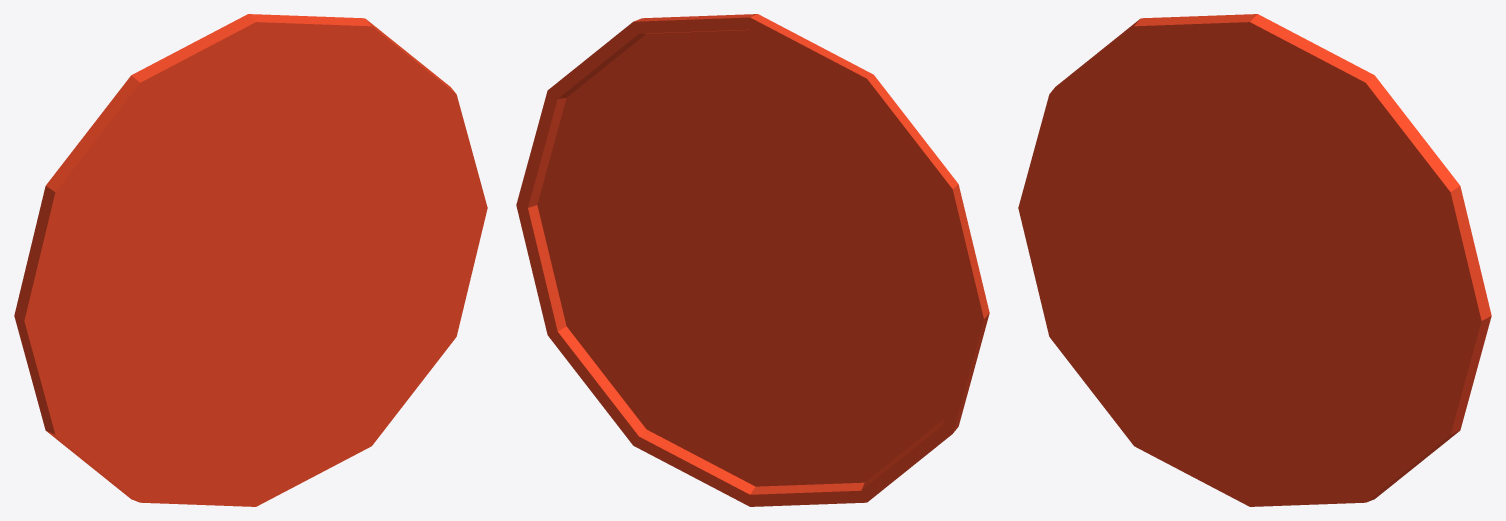
The model's file is SM_Sign_No_Entry_A_City.fbx.
3 views of the same model, side by side, from view 1: azimuth 30°, elevation 25°; view 2: azimuth 150°, elevation 25°; view 3: azimuth 330°, elevation 25° (orthographic).
Parts seen in each view (by area): view 1: SM_Sign_No_Entry_A_City; view 2: SM_Sign_No_Entry_A_City; view 3: SM_Sign_No_Entry_A_City.
Boxes of the visible parts, left/top/right/bottom form: SM_Sign_No_Entry_A_City: left=14, top=14, right=487, bottom=506; SM_Sign_No_Entry_A_City: left=516, top=14, right=989, bottom=506; SM_Sign_No_Entry_A_City: left=1018, top=14, right=1491, bottom=506.
Bounding box in the file's own units: 0.733 × 0.733 × 0.0215.
